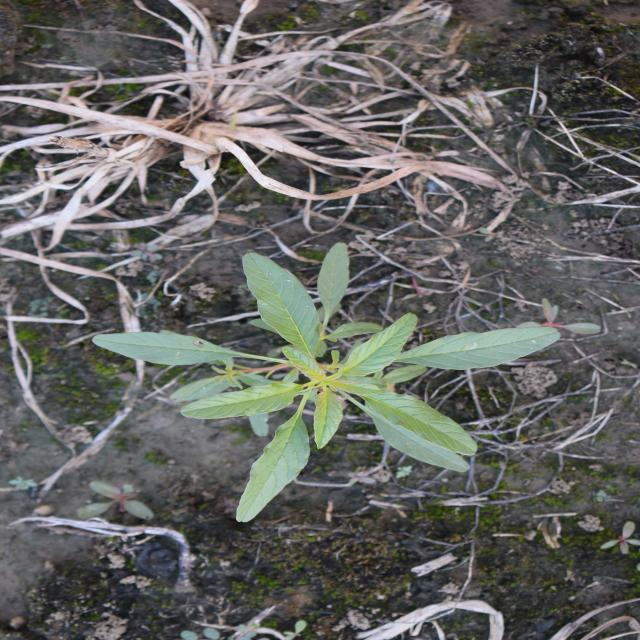Waterhemp: (88, 241, 564, 525)
